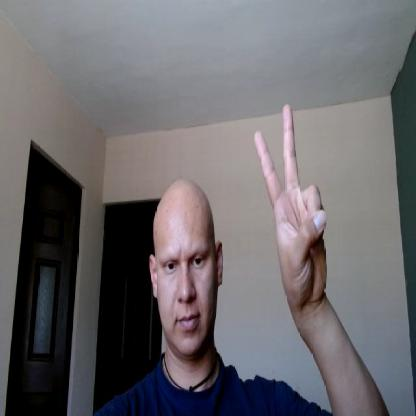V: (253, 103, 330, 303)
